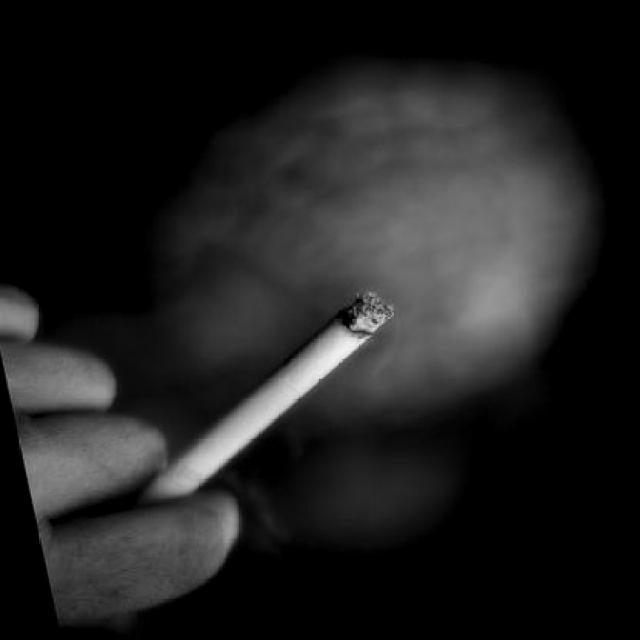cigarette: (101, 284, 432, 521)
